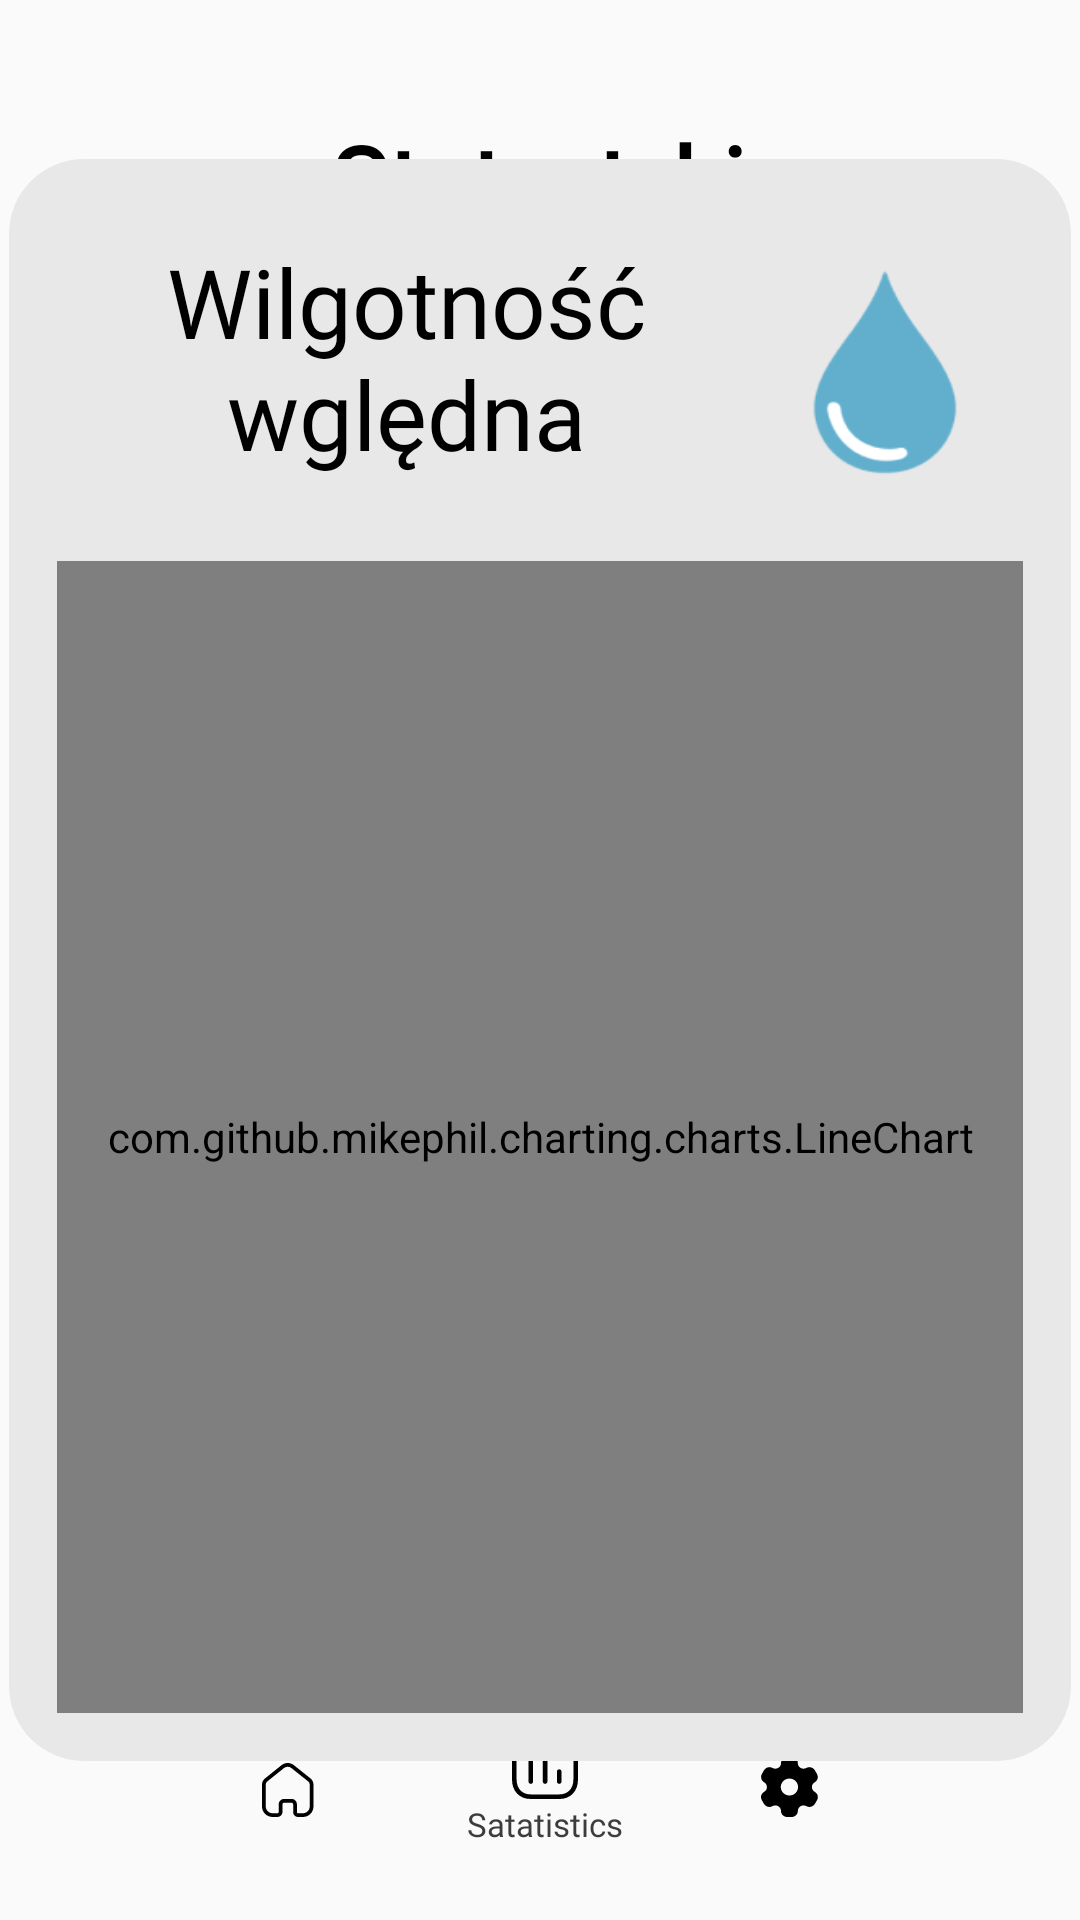

Where icons sit on this 1080x1920 app screen, as {"left": x1, "top": y1, "right": x2, "bottom": y2}:
home: {"left": 262, "top": 1763, "right": 314, "bottom": 1817}
settings: {"left": 761, "top": 1761, "right": 818, "bottom": 1817}
waterdrop: {"left": 813, "top": 272, "right": 957, "bottom": 474}
